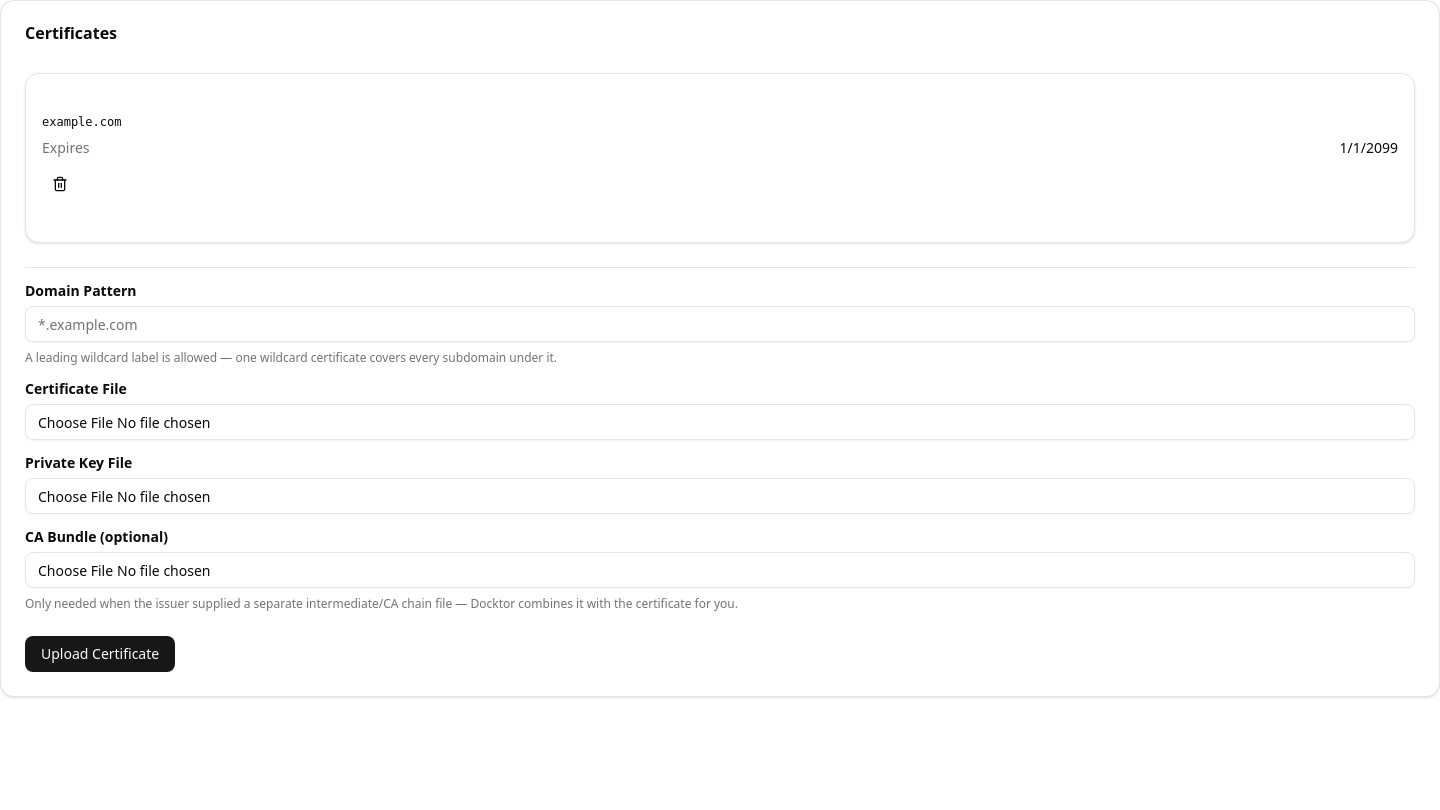
it: CertificatesCard › renders the server's conflict message naming the blocking domains on a failed delete
The image size is (1440, 810).
Expected: the text "example.com" is shown, [42,115,122,129]
Click the button named "delete example.com": (60, 184) [42,166,78,202]
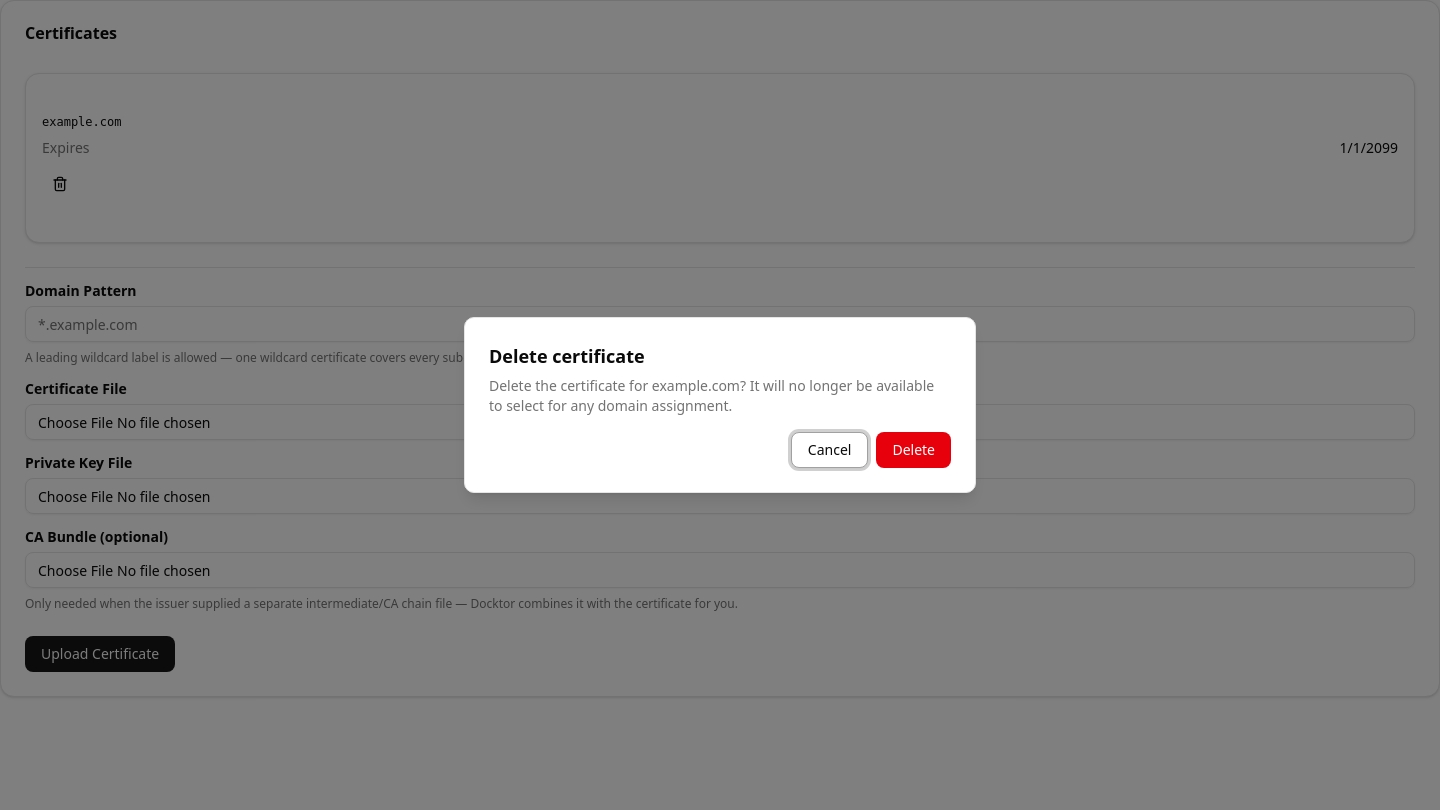
Click the button "Delete": (914, 450) [876,432,951,468]
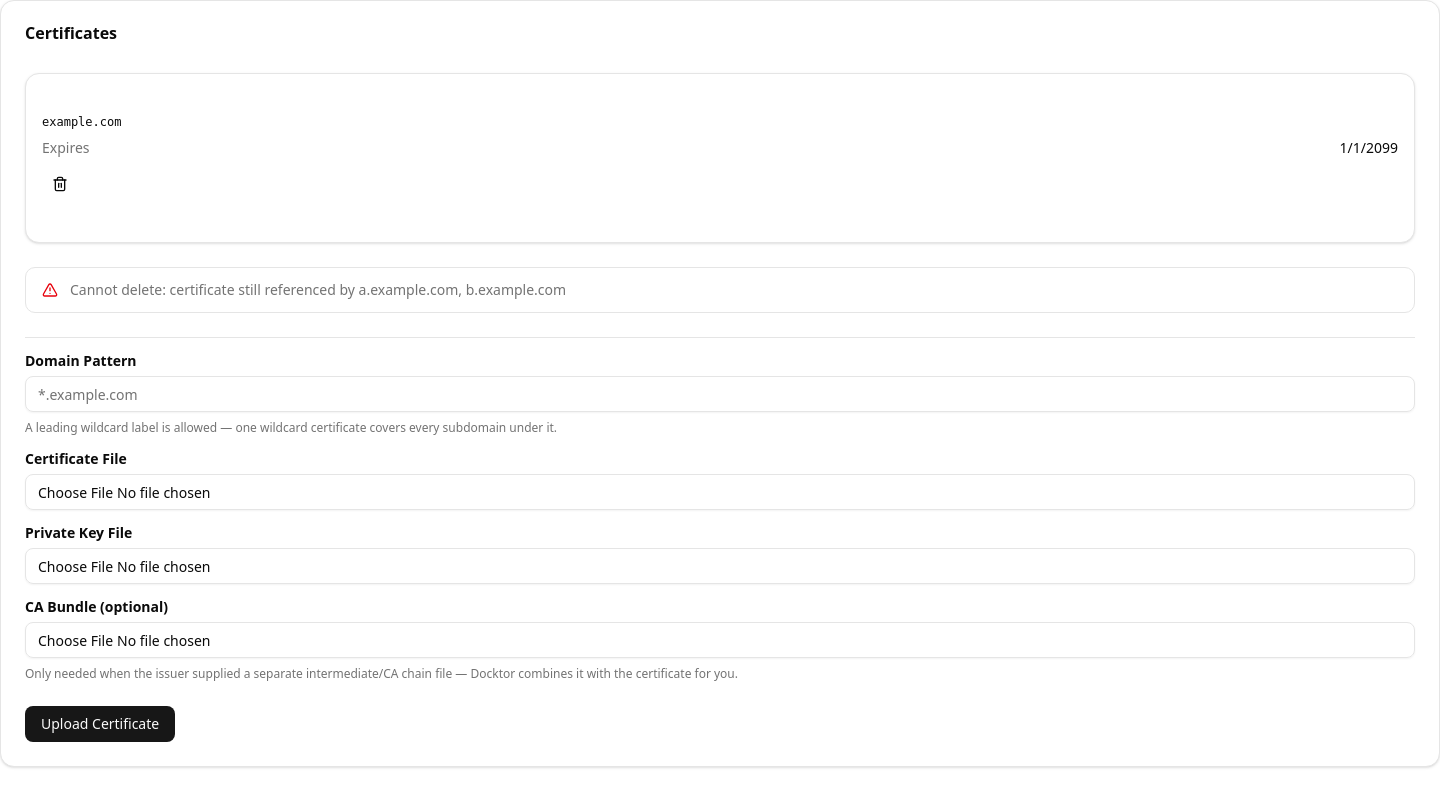
Result: the text "Cannot delete: certificate still referenced by a.example.com, b.example.com" is shown at [70,280,566,299]
